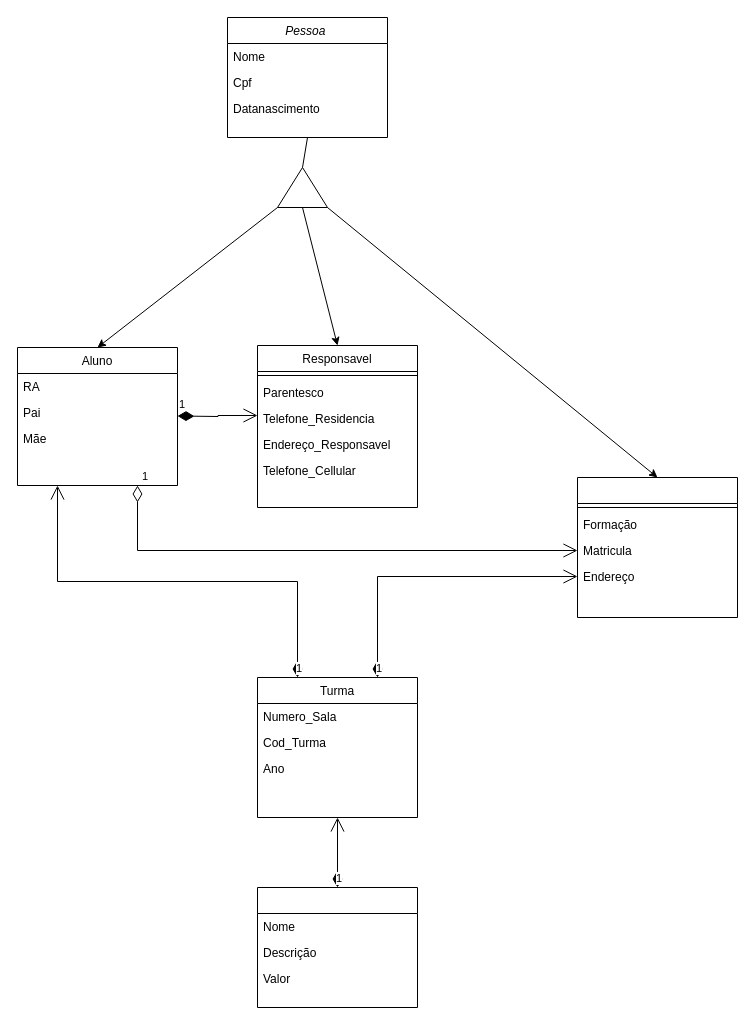
Some shapes in this 755 by 1025 pixel diagram are drawn without their labels. The shapes that lost their labels are listed below. From the top down, each one's box as (x1, y1, x2, y2) in pixels, then its label:
(576, 476, 738, 618): Professor
(256, 886, 418, 1008): Atividade
